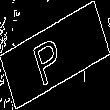P_NW: (36, 25, 74, 85)
